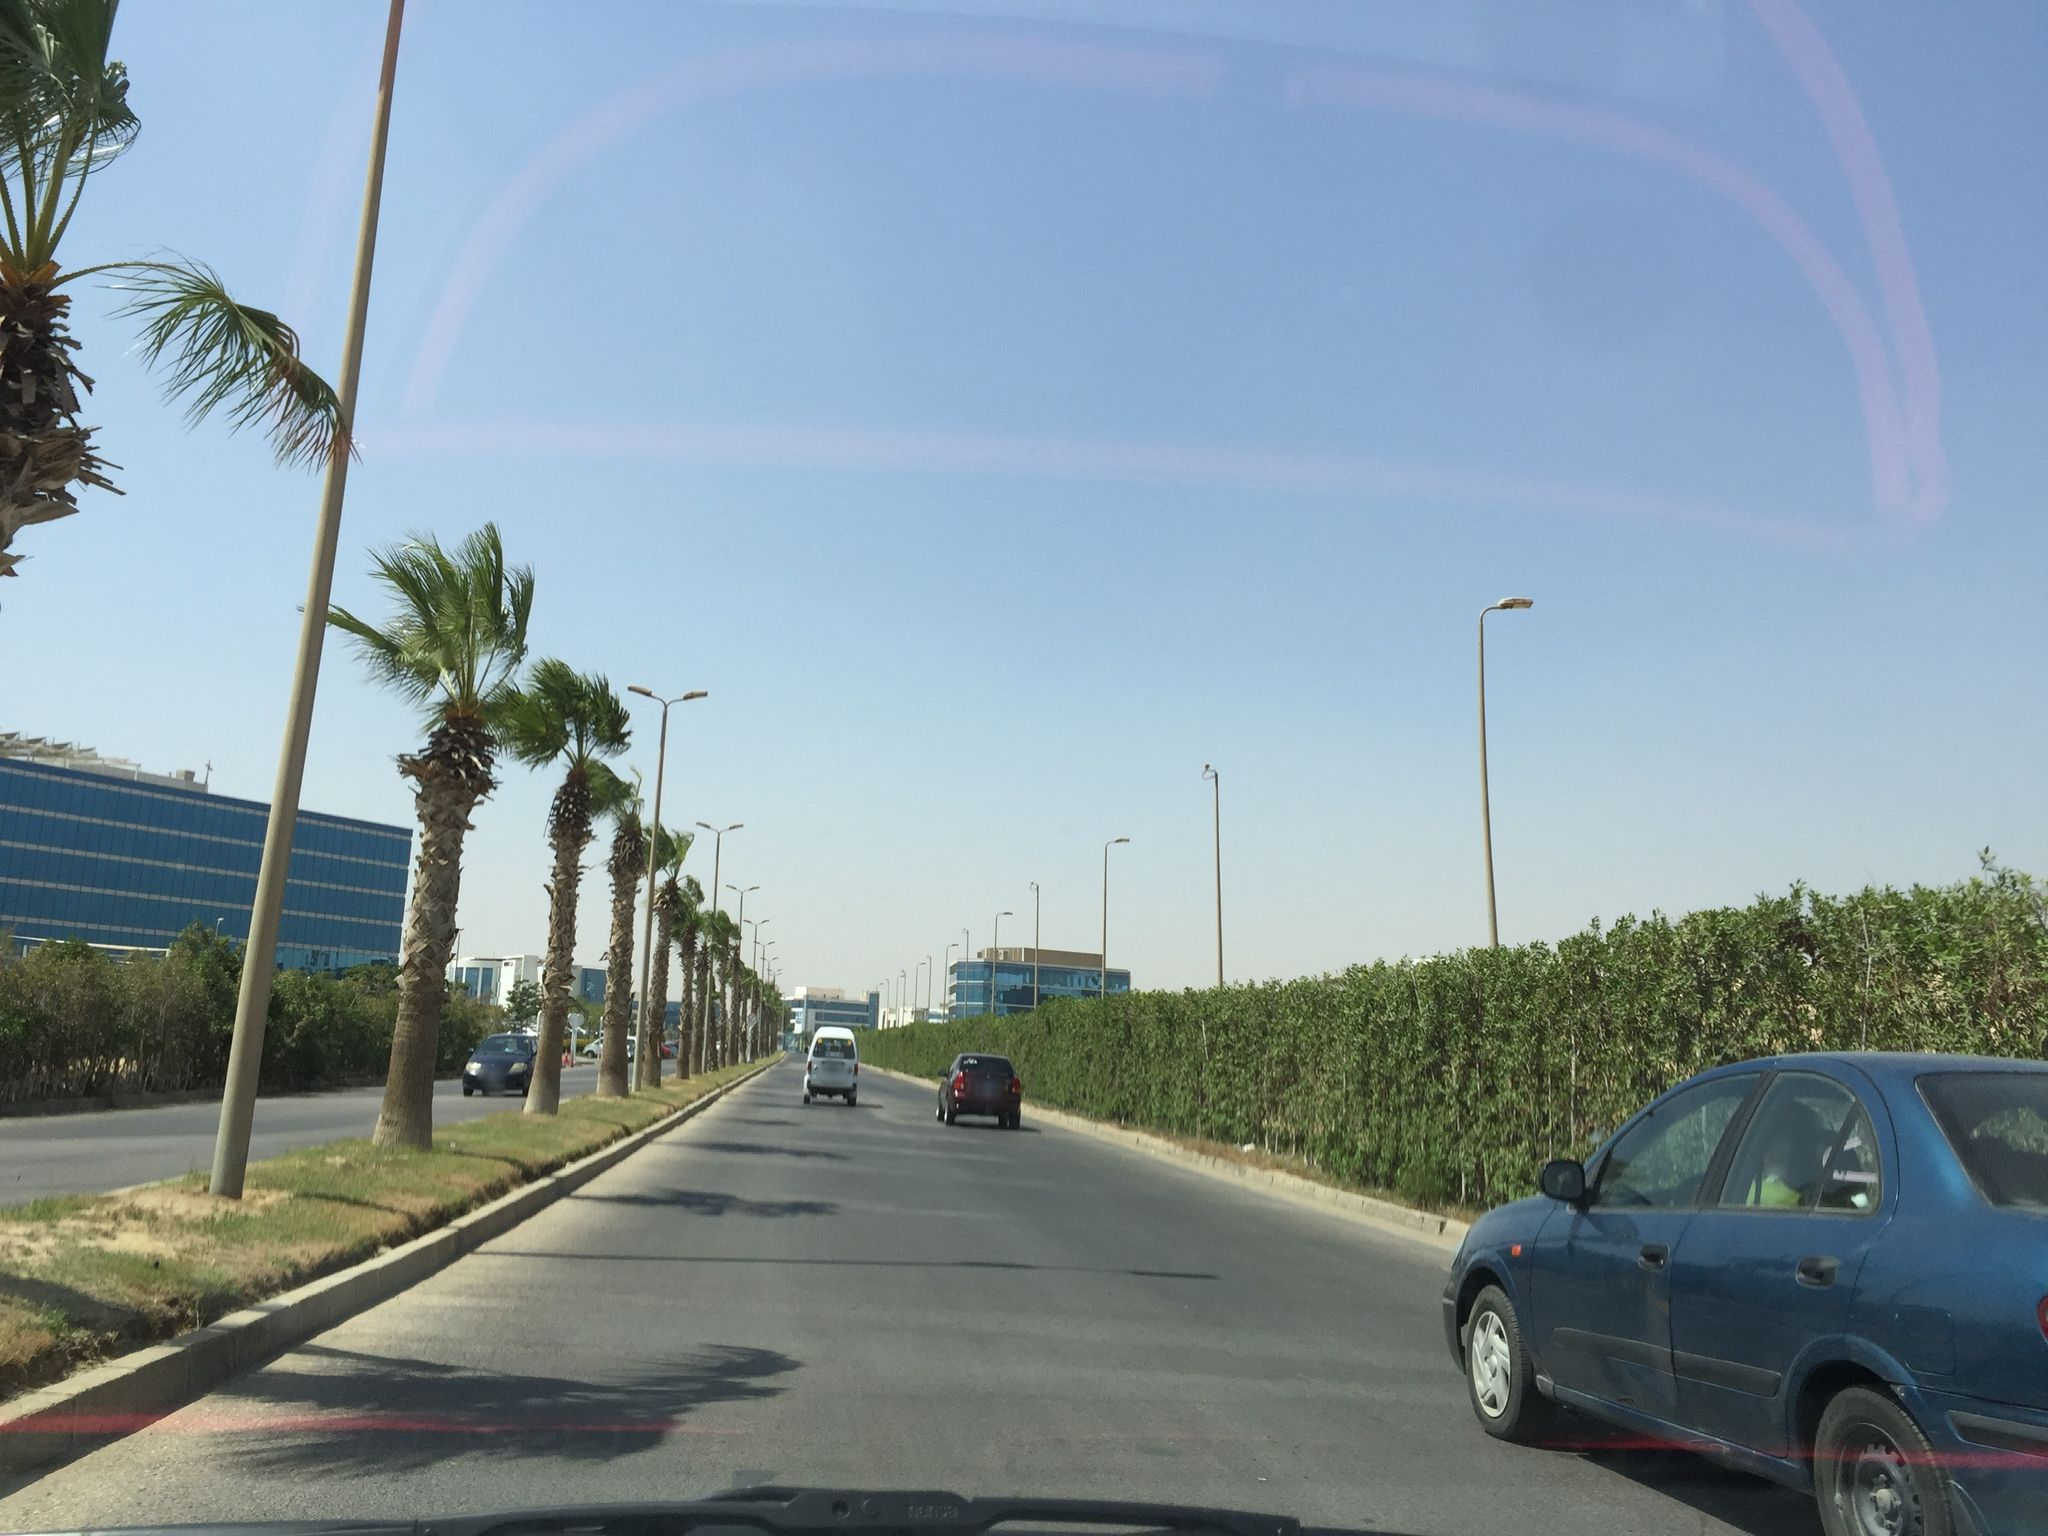car: (1437, 1049, 2046, 1534), (935, 1050, 1021, 1128), (461, 1033, 539, 1096), (803, 1025, 860, 1105)
